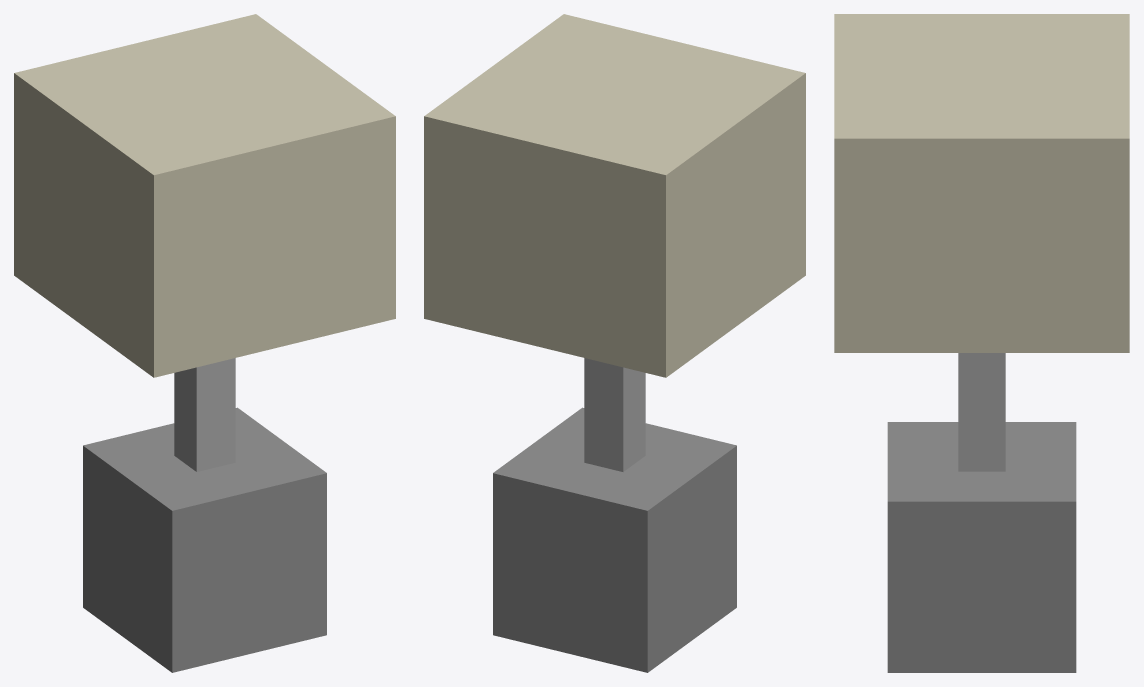
Rendered from lampRoundTable.glb.
3 views of the same model, side by side, from view 1: azimuth 30°, elevation 25°; view 2: azimuth 150°, elevation 25°; view 3: azimuth 270°, elevation 25° (orthographic). The views are drawn at different scales.
Size of the model in its own units: 0.25 by 0.52 by 0.25.
